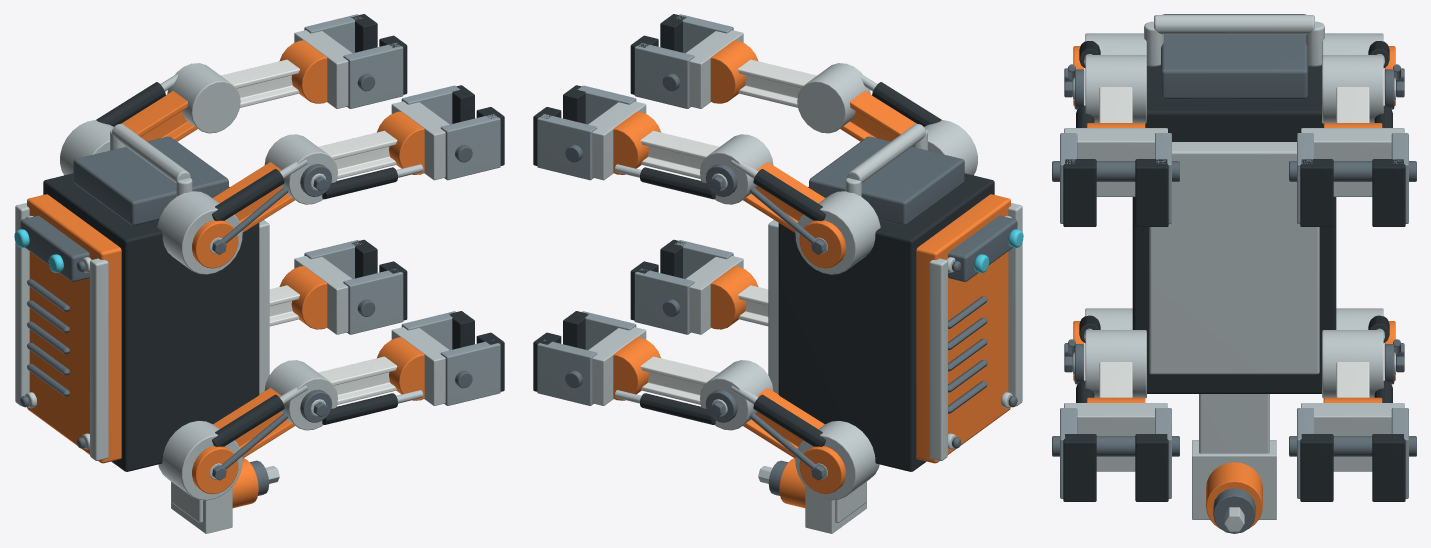
Rendered from climber-robot.glb.
3 views of the same model, side by side, from view 1: azimuth 30°, elevation 25°; view 2: azimuth 150°, elevation 25°; view 3: azimuth 270°, elevation 25° (orthographic). The views are drawn at different scales.
Parts seen in each view (by area): view 1: BodyHousing_Rubber, BodyHousing_SafetyOrange, BodyHousing_Bolts, BodyHousing_EdgeSteel, fl_UpperLinkGeometry_EdgeSteel, fr_LowerLinkGeometry_EdgeSteel, rl_UpperLinkGeometry_EdgeSteel, fl_UpperLinkGeometry_SafetyOrange, fl_JawLeft_Steel, fr_JawLeft_Steel, rl_UpperLinkGeometry_SafetyOrange, rr_JawLeft_Steel (+36 smaller); view 2: BodyHousing_Rubber, BodyHousing_SafetyOrange, BodyHousing_Bolts, BodyHousing_EdgeSteel, fr_UpperLinkGeometry_EdgeSteel, fl_LowerLinkGeometry_EdgeSteel, rr_UpperLinkGeometry_EdgeSteel, fr_UpperLinkGeometry_SafetyOrange, fr_JawRight_Steel, rr_UpperLinkGeometry_SafetyOrange, fl_JawRight_Steel, rl_JawRight_Steel (+36 smaller); view 3: BodyHousing_EdgeSteel, BodyHousing_Rubber, BodyHousing_Bolts, TorqueTool_EdgeSteel, rl_GripActuator_EdgeSteel, rr_GripActuator_EdgeSteel, fl_GripActuator_EdgeSteel, fr_GripActuator_EdgeSteel, fl_LowerLinkGeometry_EdgeSteel, fr_LowerLinkGeometry_EdgeSteel, rl_LowerLinkGeometry_EdgeSteel, rr_LowerLinkGeometry_EdgeSteel (+32 smaller).
Boxes of the visible parts, <box> form: BodyHousing_Rubber: <box>43,173,259,471</box>; BodyHousing_SafetyOrange: <box>27,194,121,463</box>; BodyHousing_Bolts: <box>20,136,228,448</box>; BodyHousing_EdgeSteel: <box>15,123,269,522</box>; fl_UpperLinkGeometry_EdgeSteel: <box>157,160,325,274</box>; fr_LowerLinkGeometry_EdgeSteel: <box>167,63,240,133</box>; rl_UpperLinkGeometry_EdgeSteel: <box>158,385,325,500</box>; fl_UpperLinkGeometry_SafetyOrange: <box>192,162,294,268</box>; fl_JawLeft_Steel: <box>440,114,500,180</box>; fr_JawLeft_Steel: <box>343,42,403,108</box>; rl_UpperLinkGeometry_SafetyOrange: <box>192,387,294,494</box>; rr_JawLeft_Steel: <box>343,268,403,334</box>; BodyHousing_Rubber: <box>778,173,994,471</box>; BodyHousing_SafetyOrange: <box>916,194,1010,463</box>; BodyHousing_Bolts: <box>809,136,1017,448</box>; BodyHousing_EdgeSteel: <box>768,123,1022,522</box>; fr_UpperLinkGeometry_EdgeSteel: <box>712,160,880,274</box>; fl_LowerLinkGeometry_EdgeSteel: <box>797,63,870,133</box>; rr_UpperLinkGeometry_EdgeSteel: <box>712,385,879,500</box>; fr_UpperLinkGeometry_SafetyOrange: <box>743,162,845,268</box>; fr_JawRight_Steel: <box>537,114,597,180</box>; rr_UpperLinkGeometry_SafetyOrange: <box>743,387,845,494</box>; fl_JawRight_Steel: <box>634,43,694,108</box>; rl_JawRight_Steel: <box>634,268,694,334</box>; BodyHousing_EdgeSteel: <box>1144,15,1324,453</box>; BodyHousing_Rubber: <box>1132,65,1336,393</box>; BodyHousing_Bolts: <box>1161,14,1307,99</box>; TorqueTool_EdgeSteel: <box>1192,440,1276,531</box>; rl_GripActuator_EdgeSteel: <box>1064,403,1167,471</box>; rr_GripActuator_EdgeSteel: <box>1301,403,1404,471</box>; fl_GripActuator_EdgeSteel: <box>1064,128,1167,196</box>; fr_GripActuator_EdgeSteel: <box>1301,128,1404,196</box>; fl_LowerLinkGeometry_EdgeSteel: <box>1085,55,1146,123</box>; fr_LowerLinkGeometry_EdgeSteel: <box>1322,55,1383,123</box>; rl_LowerLinkGeometry_EdgeSteel: <box>1085,330,1146,398</box>; rr_LowerLinkGeometry_EdgeSteel: <box>1322,330,1383,398</box>.
Size of the model in its own units: 1.19 by 1.13 by 0.77.
